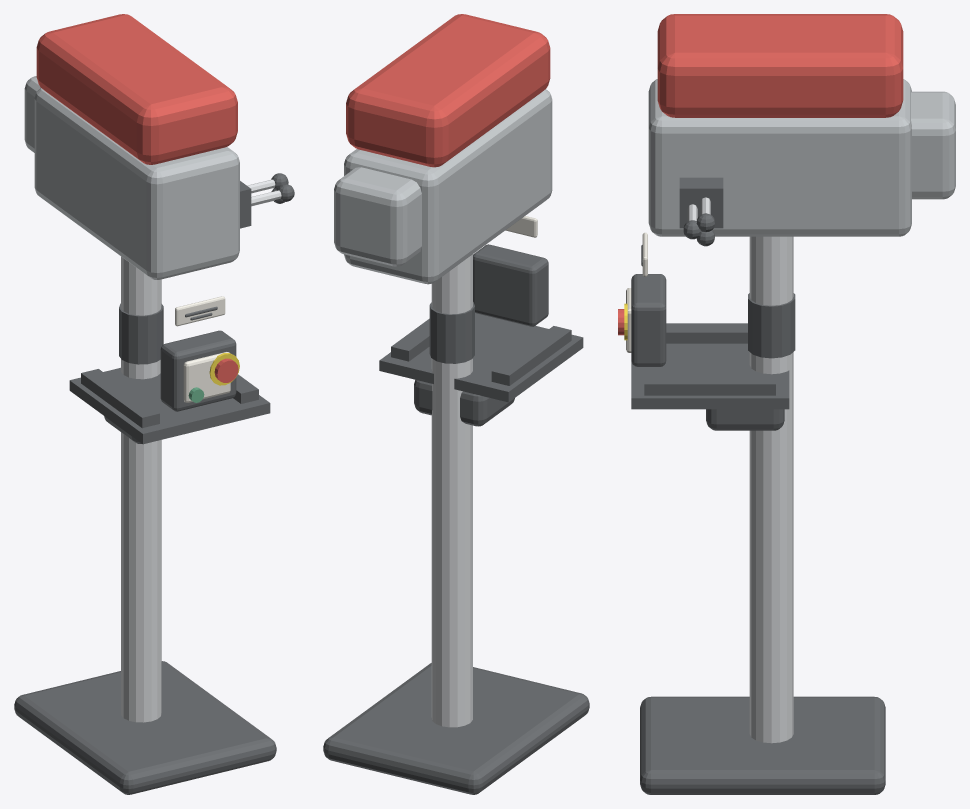
Rendered from woodworking-workshop-and-joinery-woodworking-workshop--64e716a2.glb.
The picture shows the model from 3 angles, left to right: view 1: azimuth 30°, elevation 25°; view 2: azimuth 150°, elevation 25°; view 3: azimuth 270°, elevation 25°; orthographic projection. The views are drawn at different scales.
Parts seen in each view (by area): view 1: woodworking-workshop-and-joinery-pillar-drill, chuck-spin; view 2: woodworking-workshop-and-joinery-pillar-drill, chuck-spin; view 3: woodworking-workshop-and-joinery-pillar-drill, chuck-spin.
Part boxes in pixels (x1,y1,x2,y2): woodworking-workshop-and-joinery-pillar-drill: [14, 14, 294, 794]; chuck-spin: [119, 303, 163, 364]; woodworking-workshop-and-joinery-pillar-drill: [323, 14, 589, 794]; chuck-spin: [429, 302, 474, 363]; woodworking-workshop-and-joinery-pillar-drill: [618, 14, 955, 794]; chuck-spin: [748, 293, 795, 358].
Size of the model in its own units: 0.5471 by 1.82 by 0.77.
